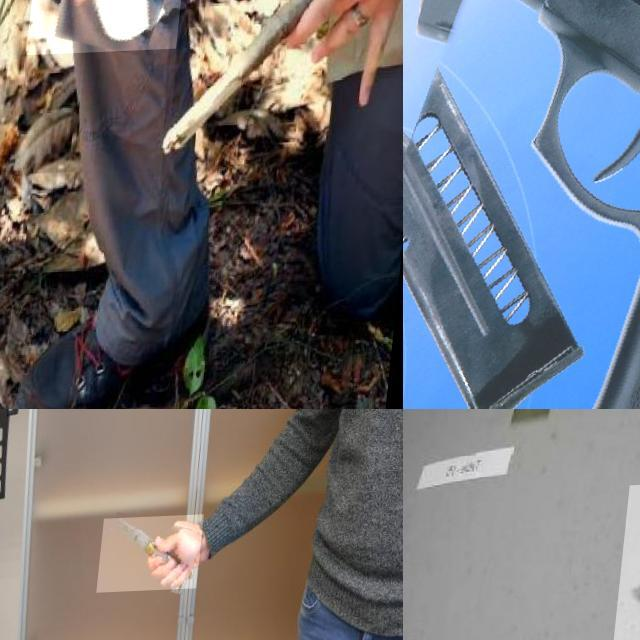-: (30, 0, 194, 88), (107, 518, 213, 596)
gun-knife-thesis - v11 Yolov5 augmented: (403, 0, 640, 409)
